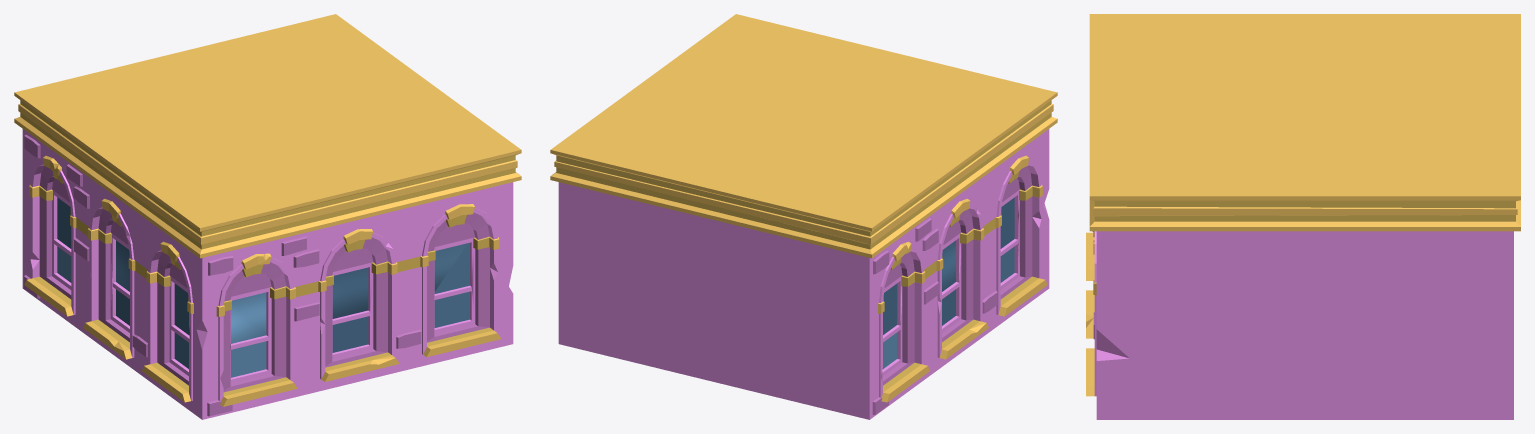
The model's file is Mod_Edificio_4.fbx.
3 views of the same model, side by side, from view 1: azimuth 30°, elevation 25°; view 2: azimuth 150°, elevation 25°; view 3: azimuth 270°, elevation 25° (orthographic). The views are drawn at different scales.
Visible parts, largest first — view 1: Edificio_4; view 2: Edificio_4; view 3: Edificio_4.
Part boxes in pixels (<box>): Edificio_4: <box>14,14,521,419</box>; Edificio_4: <box>550,14,1057,419</box>; Edificio_4: <box>1086,14,1520,419</box>.
Size of the model in its own units: 5.21 by 3 by 5.21.
